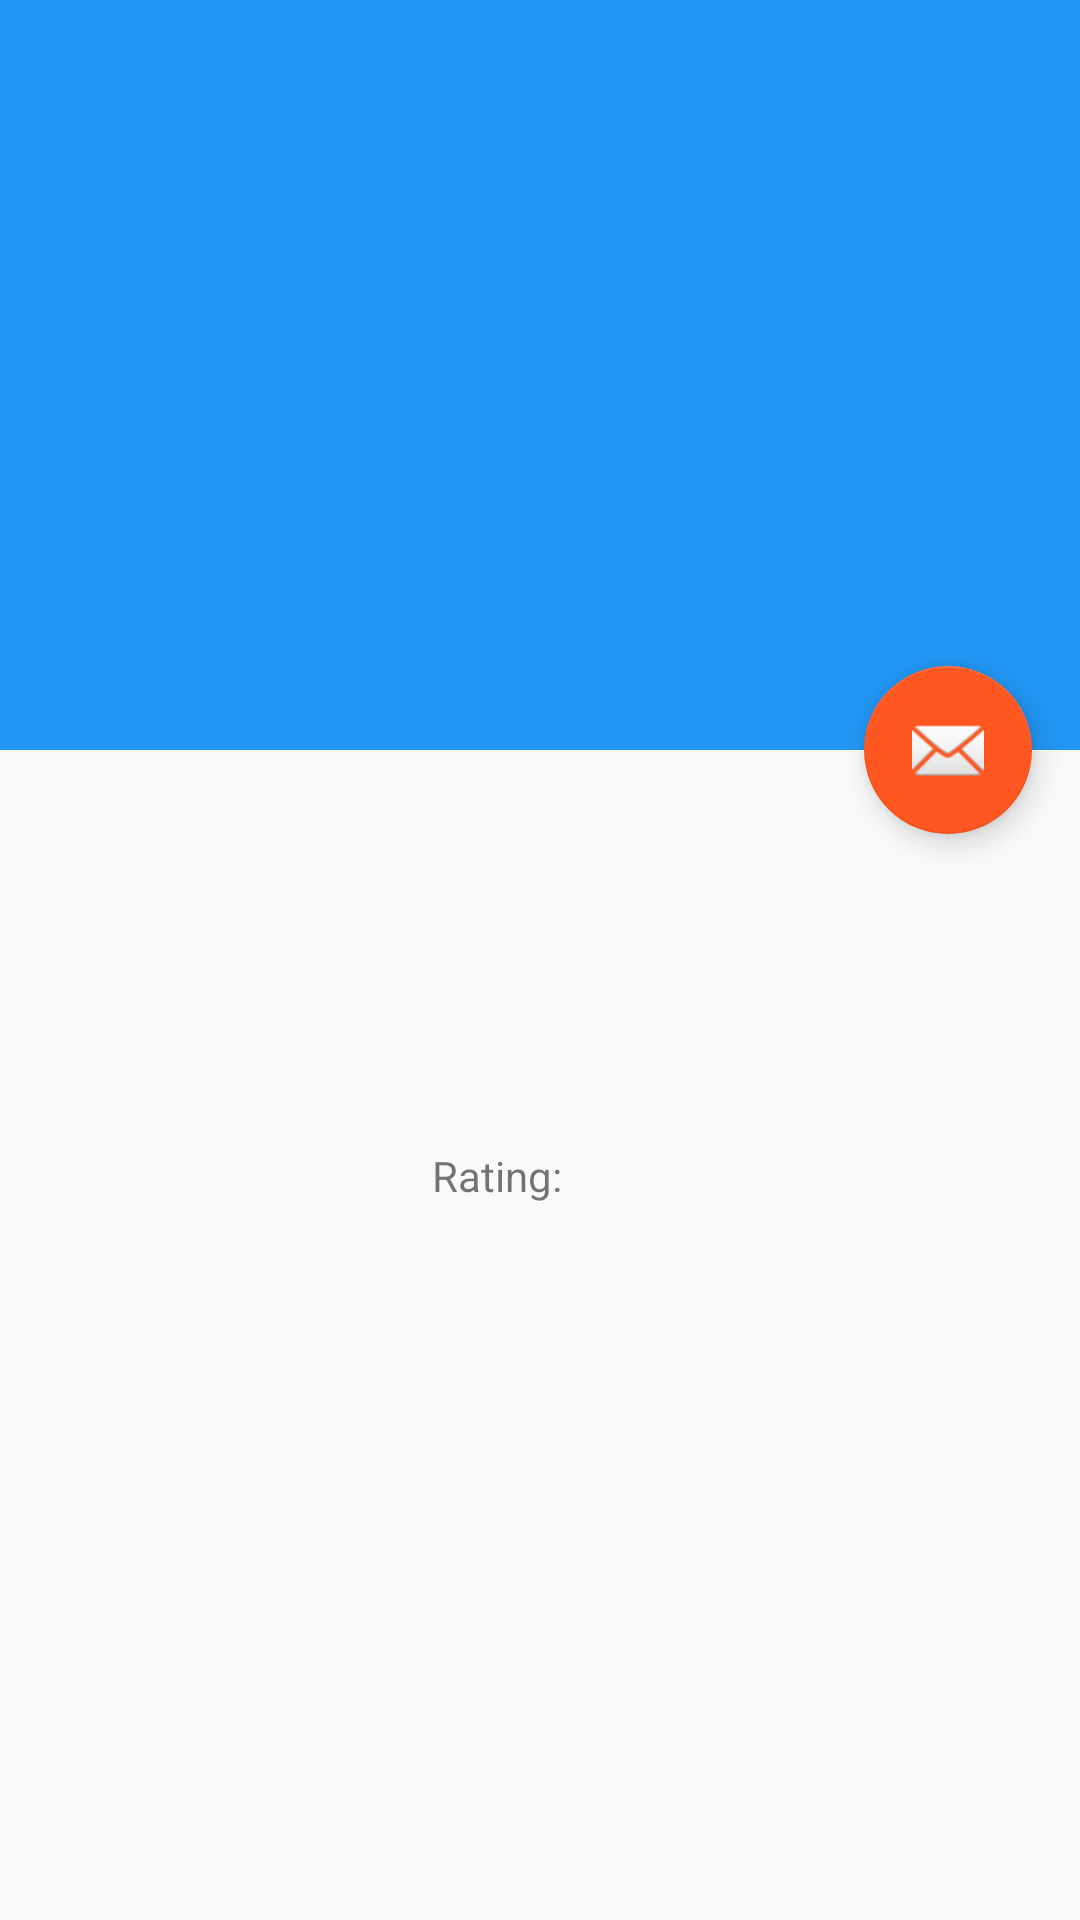

Named icons in this screenshot (1080×1920) and their centers, (x,y):
email: (948,750)
